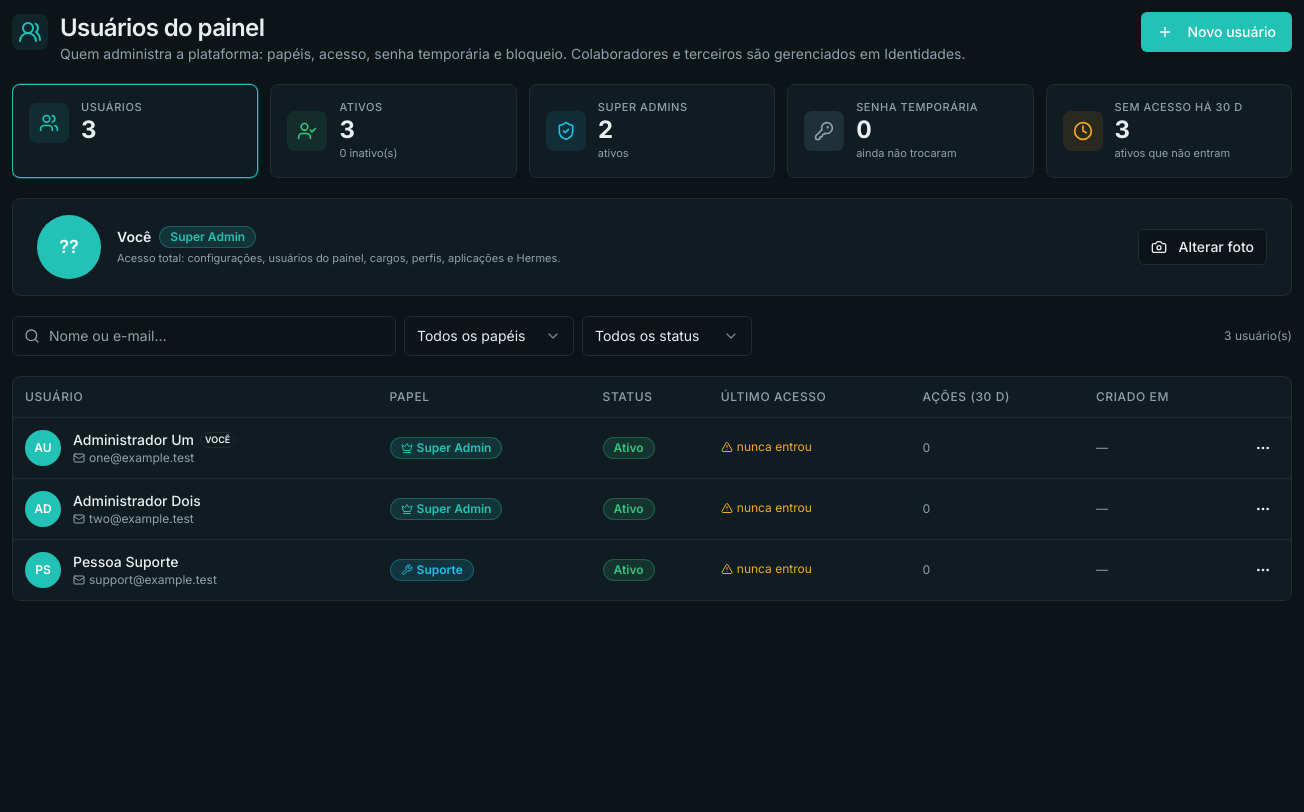
Filtro de Super Admins › lista os dois platform_admin e volta a todos no segundo clique
Expected: the text "Pessoa Suporte" is shown, [73,552,179,570]
What coordinates should you click on to do the following:
click the text "Super Admins"
I would click on:
 (643, 107)
Its box is [598,100,688,114].
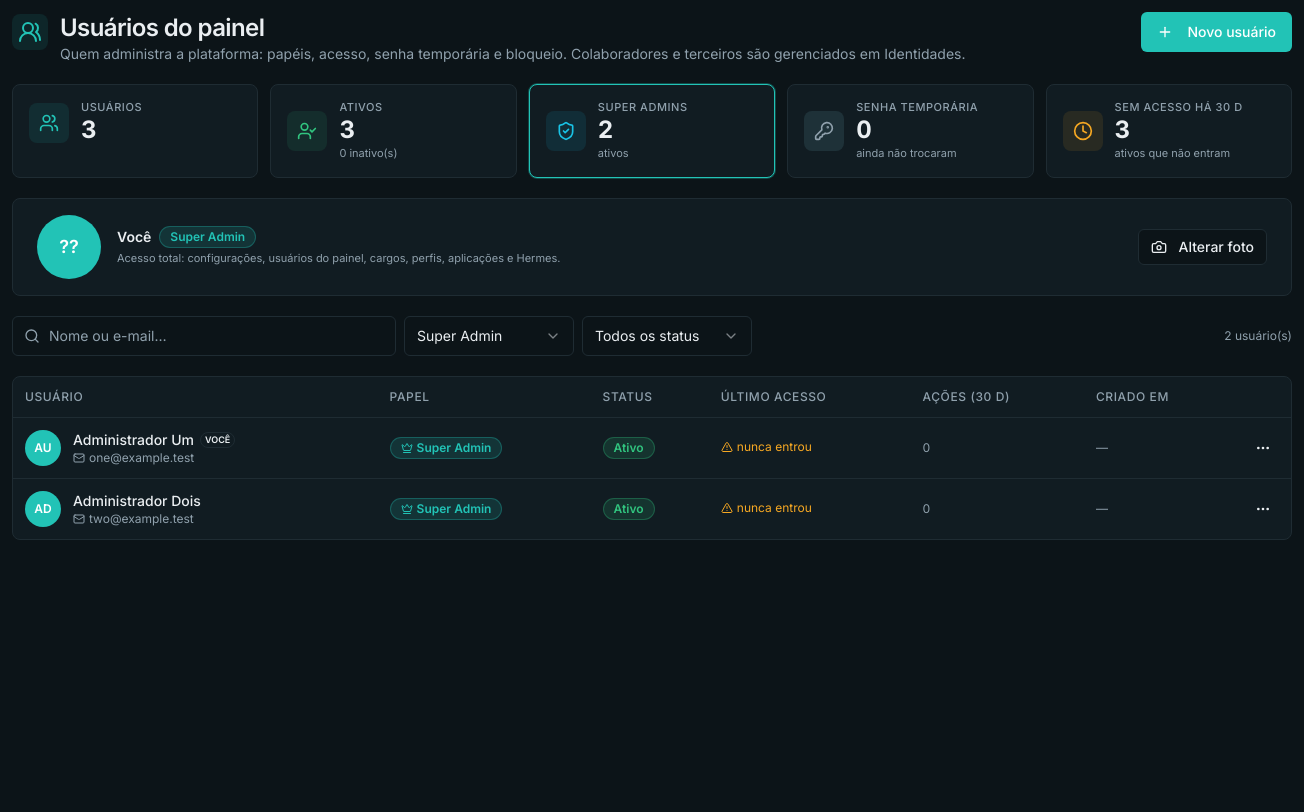
Expected: the text "Administrador Um" is shown, [73,430,194,448]
Expected: the text "Pessoa Suporte" is gone
Expected: the number of rows is 3, [13,376,1291,417]; [13,417,1291,478]; [13,478,1291,538]
What coordinates should you click on to do the following:
click the text "Super Admins"
I would click on:
 (643, 107)
Its box is [598,100,688,114].
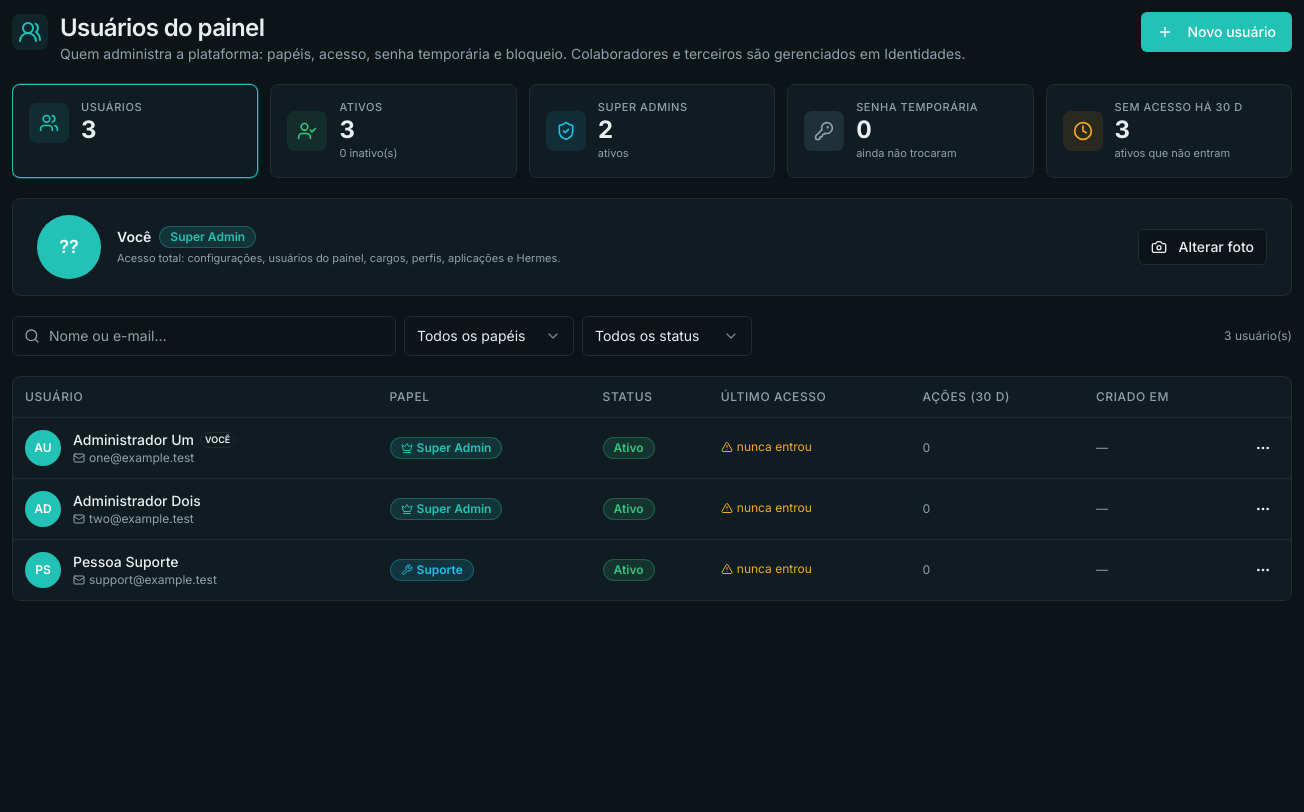
Expected: the text "Pessoa Suporte" is shown, [73,552,179,570]
